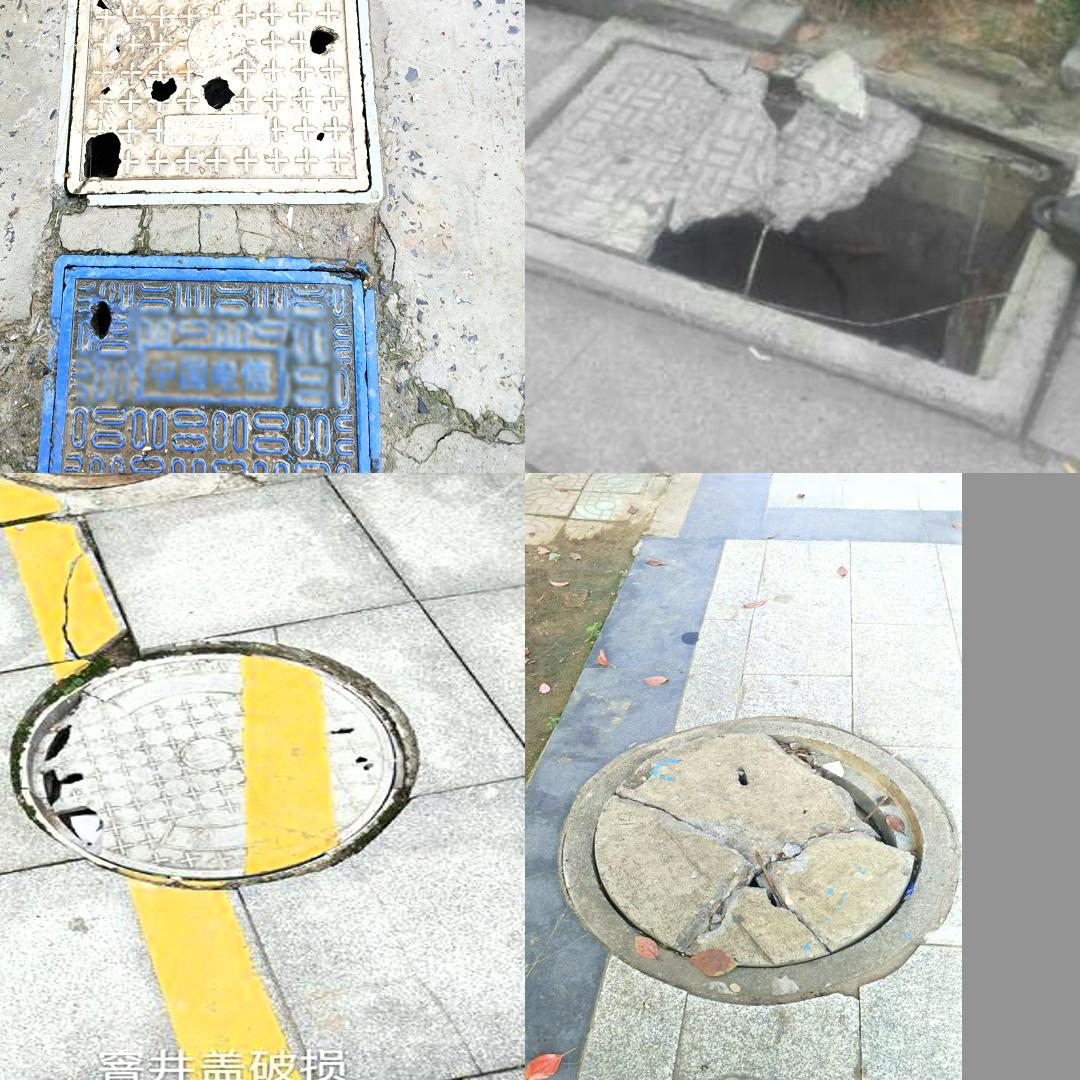broke: (526, 35, 1075, 382), (553, 709, 959, 1010), (0, 640, 431, 898), (60, 0, 384, 209)
